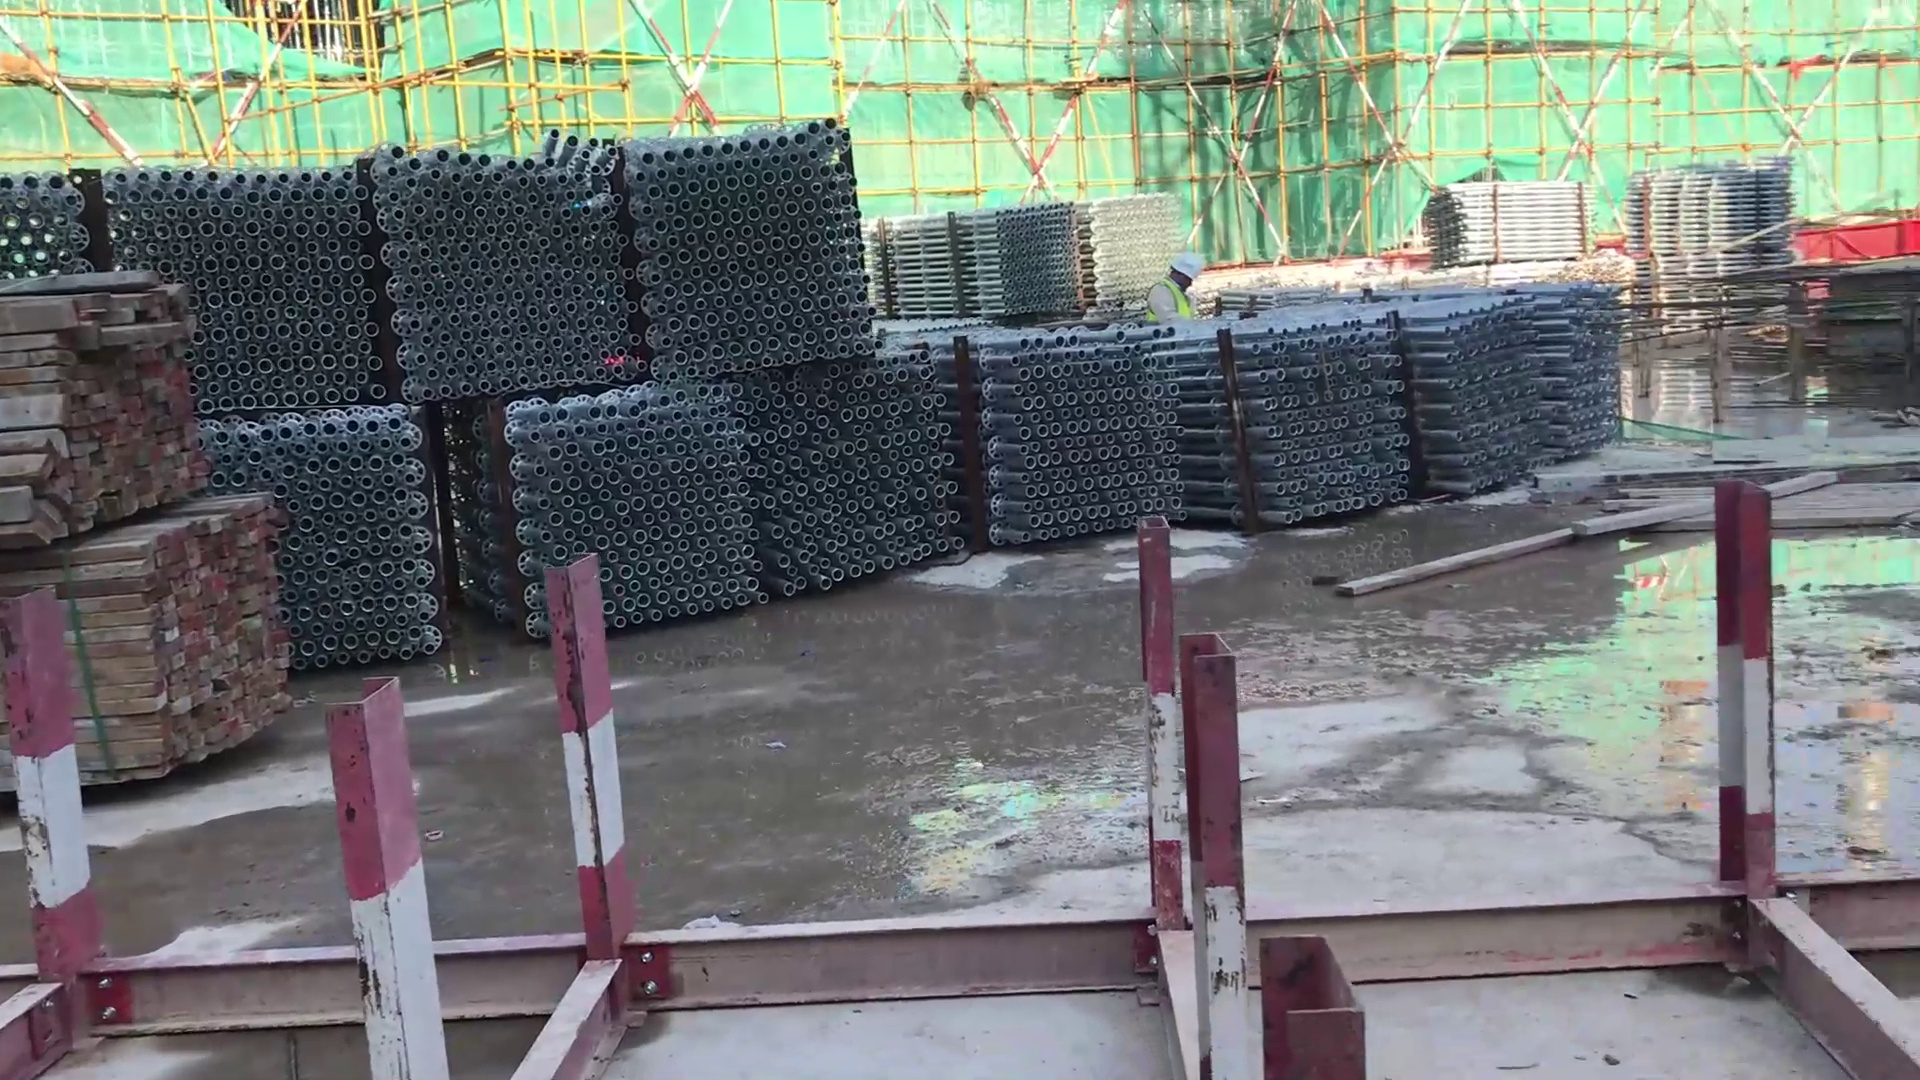helmet: (1168, 251, 1218, 287)
scaffold: (8, 129, 1683, 574)
wood: (1, 262, 247, 775)
